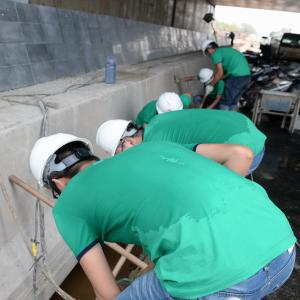white: (29, 132, 95, 193), (95, 117, 141, 154), (154, 92, 187, 116), (201, 39, 221, 58), (199, 70, 215, 87)
